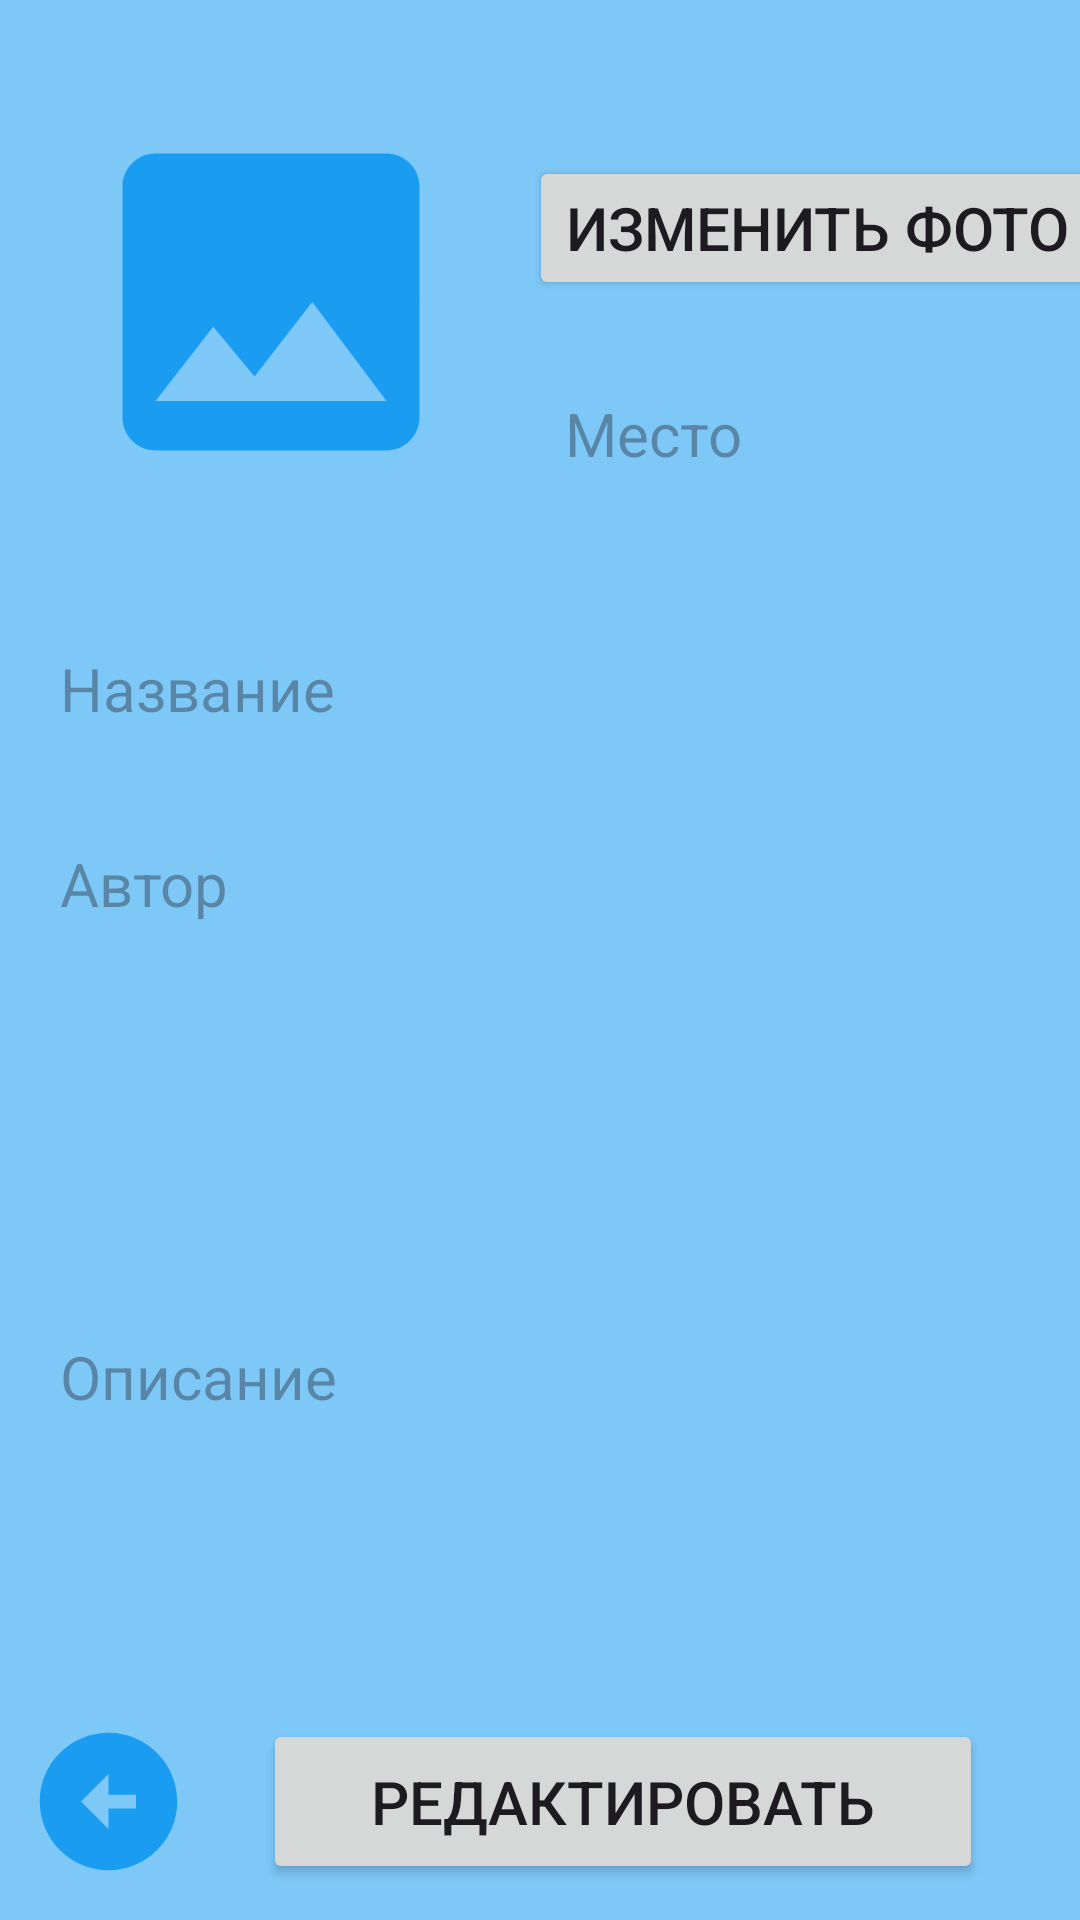

Point at icon controls on the screen. Image size 1080px x 1920px, points as (x=x, y=y).
arrow circle left: (x=108, y=1801)
